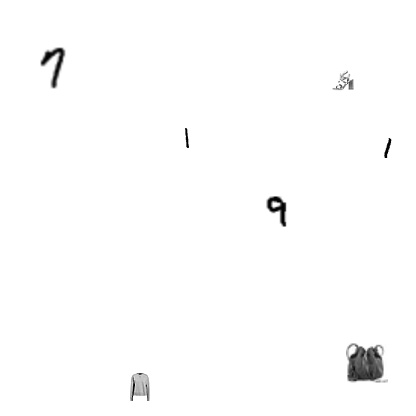0: (101, 86, 213, 198)
3: (61, 206, 89, 234)
5: (11, 347, 53, 389)
6: (200, 263, 242, 305)
8: (286, 156, 342, 212)
Ankle_boot: (321, 29, 405, 113)
Coat: (91, 253, 203, 365)
